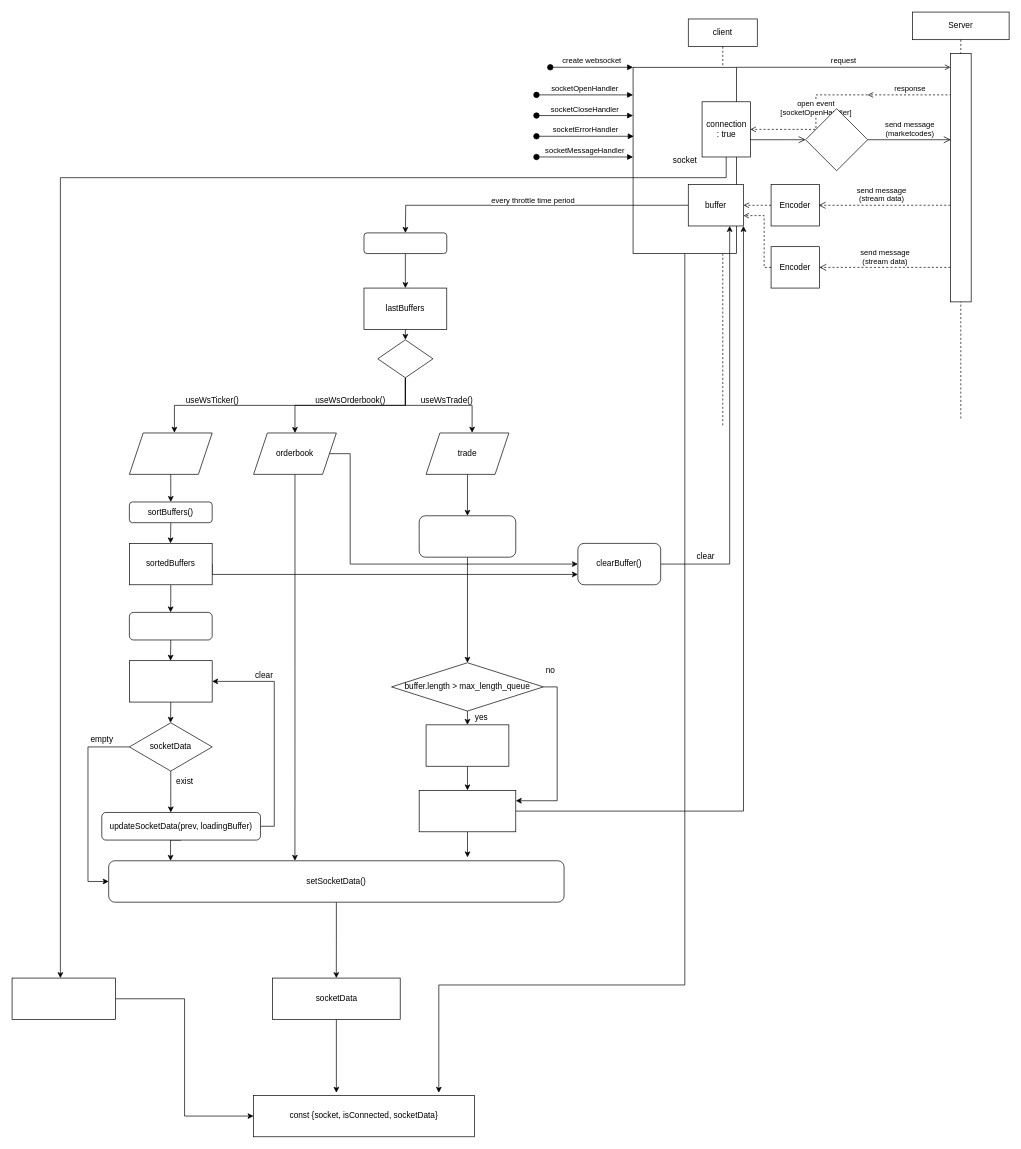
The diagram is 1021 pixels wide and 1149 high, and some of its shapes have lost their labels. The shapes that lost their labels are listed below. From the top down, each one's box as (x1, y1, x2, y2) in pixels, then its label:
(805, 108, 868, 171): readyState == 1
(363, 232, 447, 254): getLastBuffers()
(377, 339, 433, 378): Hook
(129, 432, 212, 474): ticker
(418, 515, 516, 557): updateQueueBuffer()
(129, 612, 212, 640): setLoadingBuffer()
(129, 660, 212, 702): lodingBuffer
(425, 724, 509, 766): remove old data
(418, 790, 516, 832): updatedBuffer
(11, 977, 116, 1019): isConnected
